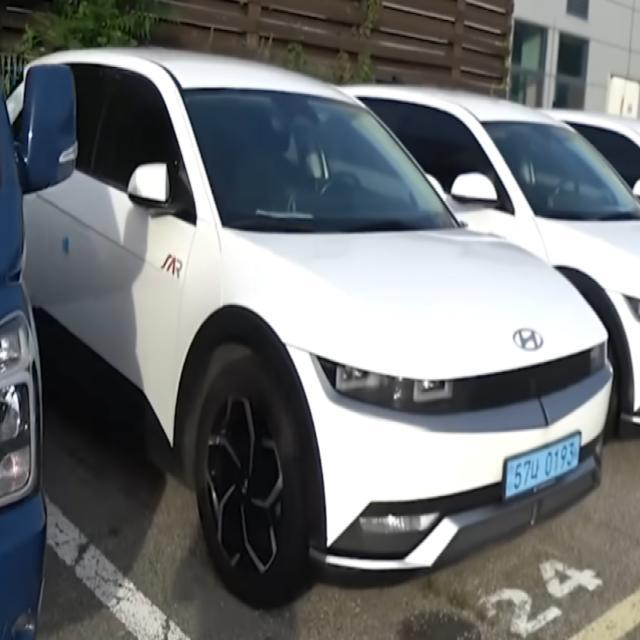car: (495, 427, 596, 508)
carev: (502, 454, 514, 502), (574, 432, 585, 472)
